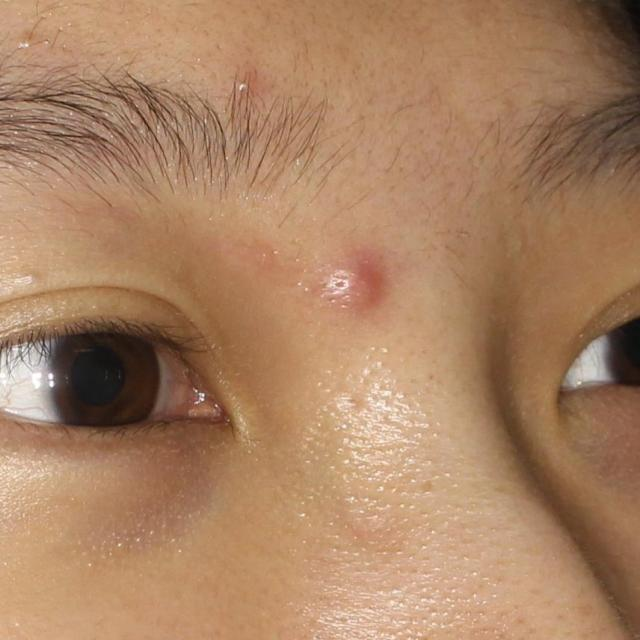nodule: (317, 247, 384, 329)
